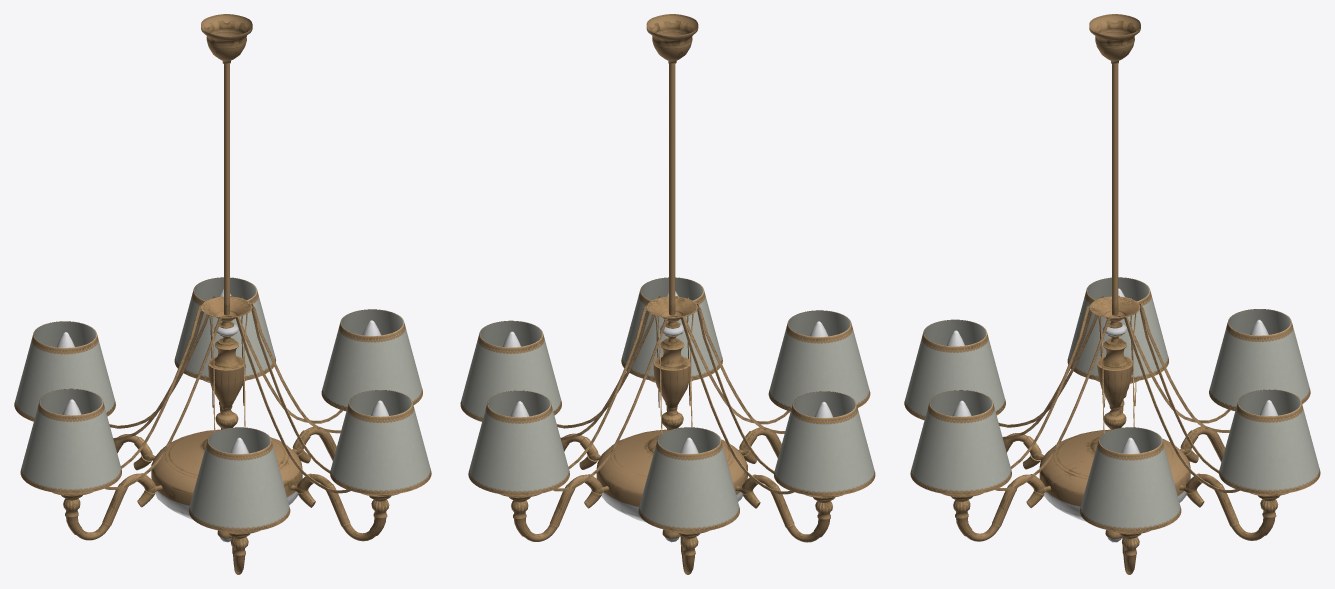
The model's file is chandelier_02_4k-v1.glb.
The picture shows the model from 3 angles, left to right: view 1: azimuth 30°, elevation 25°; view 2: azimuth 150°, elevation 25°; view 3: azimuth 270°, elevation 25°; orthographic projection.
Parts seen in each view (by area): view 1: Chandelier_02; view 2: Chandelier_02; view 3: Chandelier_02.
Boxes of the visible parts, x1,y1,x2,y2 form: Chandelier_02: (14,14,431,574); Chandelier_02: (460,14,875,574); Chandelier_02: (904,14,1320,574).
Bounding box in the file's own units: 0.679 × 0.8481 × 0.6191.
2 materials, 1 textured.
